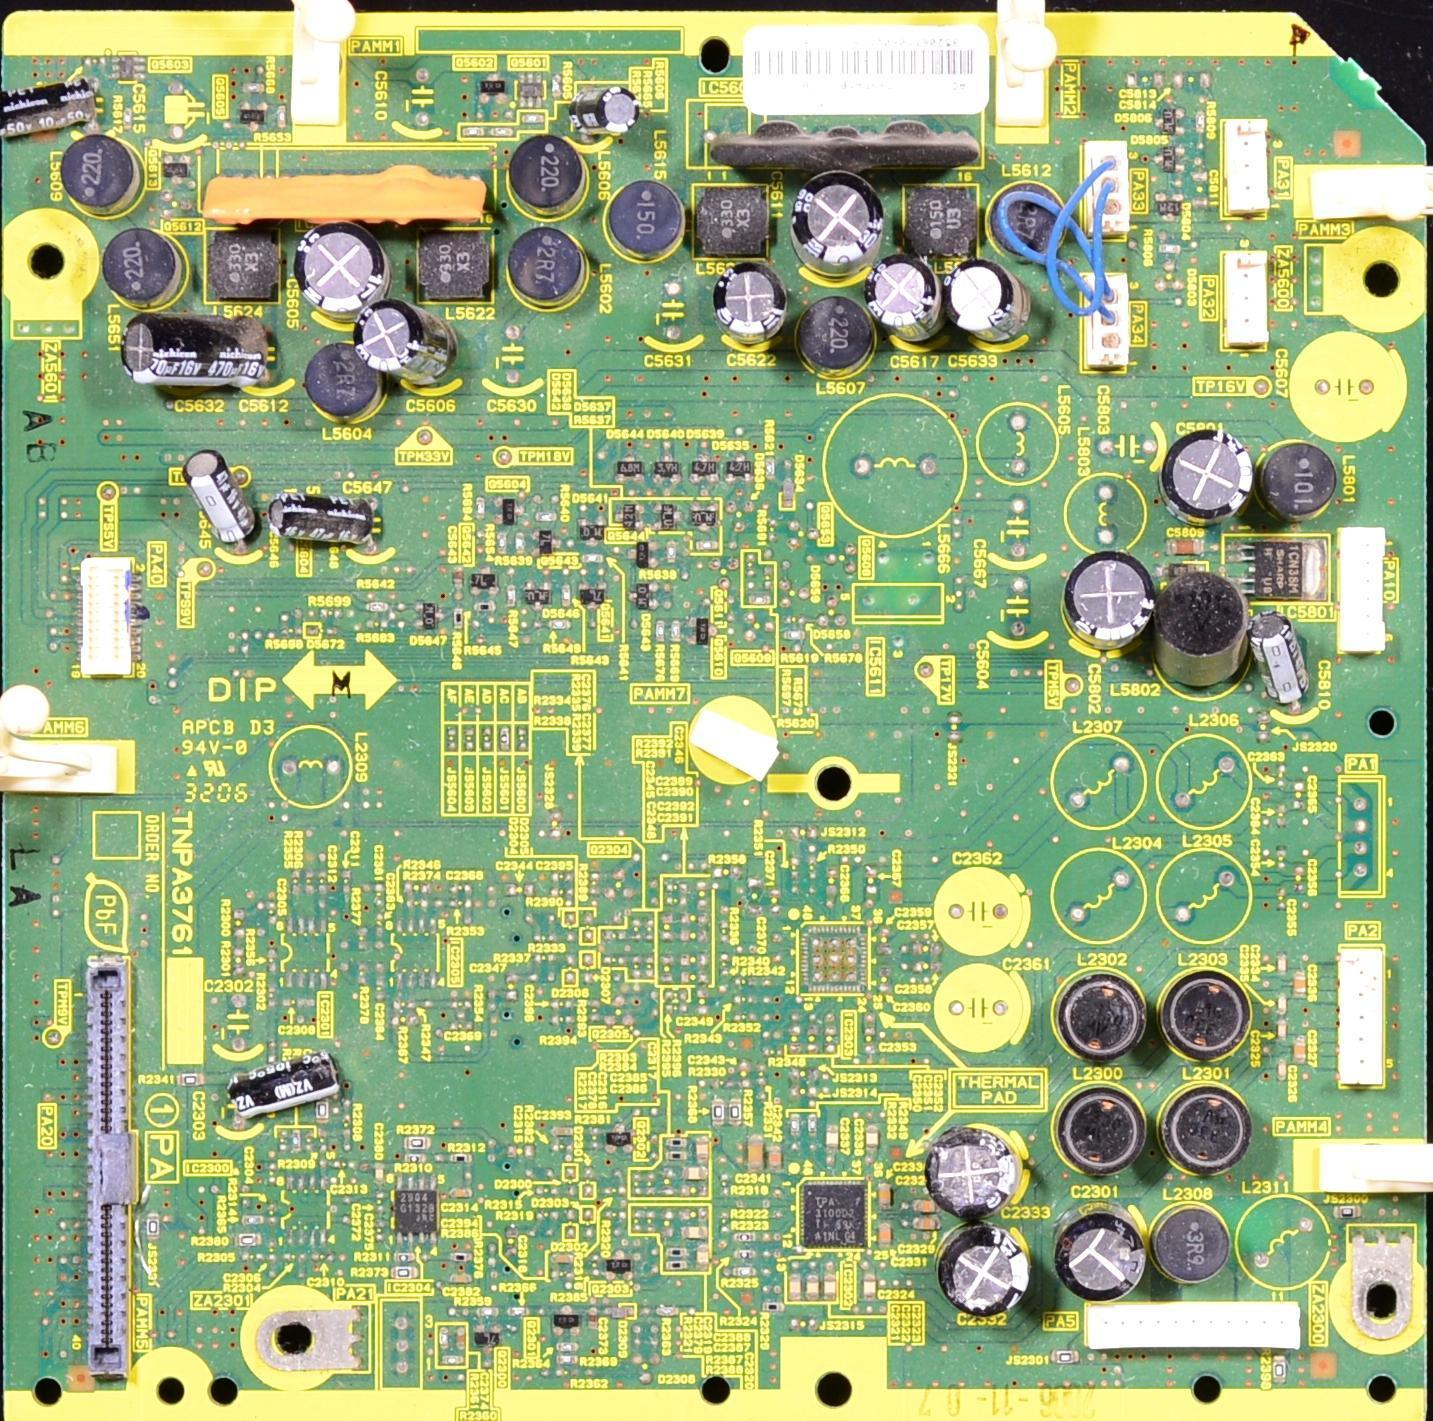Capacitor: (120, 316, 288, 398), (1054, 1204, 1151, 1296), (922, 1126, 1020, 1214), (941, 1227, 1034, 1319), (1070, 547, 1145, 656), (360, 297, 448, 387), (307, 219, 386, 317), (188, 454, 264, 555), (792, 171, 879, 259), (217, 1058, 345, 1117), (1252, 615, 1317, 709), (710, 268, 787, 347), (1171, 417, 1231, 515), (1, 81, 94, 144), (955, 270, 1036, 342), (272, 501, 390, 543), (879, 264, 939, 332), (1093, 421, 1172, 469), (487, 320, 528, 397), (658, 270, 687, 345), (1164, 535, 1207, 555), (747, 1136, 765, 1170), (860, 1273, 879, 1303), (913, 1214, 944, 1231), (1292, 1036, 1309, 1066), (786, 1273, 802, 1304), (823, 1273, 839, 1303), (693, 1244, 709, 1272), (682, 1224, 707, 1241), (877, 1224, 891, 1253), (548, 1249, 575, 1264), (911, 1197, 936, 1213), (826, 1125, 841, 1151), (807, 1273, 820, 1303), (684, 1165, 708, 1181), (695, 1135, 709, 1162), (877, 1182, 890, 1211), (867, 1125, 880, 1153), (768, 1147, 783, 1171), (1274, 1060, 1290, 1082), (449, 1186, 470, 1202), (453, 564, 465, 590), (1294, 972, 1306, 997), (450, 1271, 472, 1283), (456, 1327, 467, 1350), (550, 1126, 575, 1136), (1277, 952, 1287, 976), (1277, 994, 1287, 1016), (375, 1162, 385, 1183), (1278, 1019, 1287, 1040), (589, 1305, 597, 1328)
Connector: (85, 955, 142, 1387), (69, 554, 153, 681), (1083, 1308, 1313, 1346), (1336, 944, 1387, 1088), (1339, 526, 1385, 646)
IC: (802, 1176, 870, 1246), (392, 1174, 438, 1241)
Resistor: (504, 582, 522, 611), (405, 1134, 435, 1151), (230, 1233, 264, 1248), (546, 617, 573, 633), (390, 1266, 420, 1279), (512, 530, 527, 556), (493, 532, 509, 556), (560, 582, 573, 610), (241, 1214, 266, 1228), (551, 73, 565, 98), (176, 1074, 205, 1086), (654, 1305, 680, 1318), (364, 600, 390, 613), (711, 1101, 725, 1125), (1155, 242, 1183, 254), (534, 511, 559, 524), (364, 617, 389, 630), (730, 1098, 742, 1125), (581, 552, 604, 566), (240, 80, 263, 94), (290, 1130, 303, 1154), (403, 1153, 428, 1165), (449, 1251, 474, 1263), (730, 1266, 755, 1278), (554, 1353, 579, 1365), (448, 1152, 471, 1165), (507, 1305, 530, 1318), (471, 600, 495, 612), (790, 1114, 801, 1140), (277, 105, 289, 128), (733, 1248, 756, 1260), (763, 1302, 786, 1314), (392, 1252, 417, 1263), (807, 1114, 817, 1141), (734, 1231, 756, 1243), (489, 126, 513, 137), (765, 454, 775, 480), (664, 1139, 687, 1150), (668, 1151, 691, 1162), (665, 1247, 688, 1258), (664, 1259, 687, 1270), (475, 496, 486, 518), (521, 114, 545, 124), (1195, 110, 1205, 134), (478, 1306, 499, 1317), (655, 621, 666, 642), (124, 107, 134, 130), (440, 1354, 463, 1364), (749, 595, 772, 605), (556, 1343, 581, 1352), (696, 540, 718, 550), (786, 630, 806, 641), (461, 127, 484, 136), (440, 1327, 449, 1350), (453, 609, 463, 629), (673, 621, 680, 643)
Transistor: (548, 1303, 584, 1338), (605, 1247, 637, 1285), (602, 1119, 631, 1155), (472, 1323, 500, 1357), (515, 72, 544, 103), (113, 57, 150, 80), (481, 74, 507, 105), (164, 153, 190, 183), (239, 104, 263, 133)
